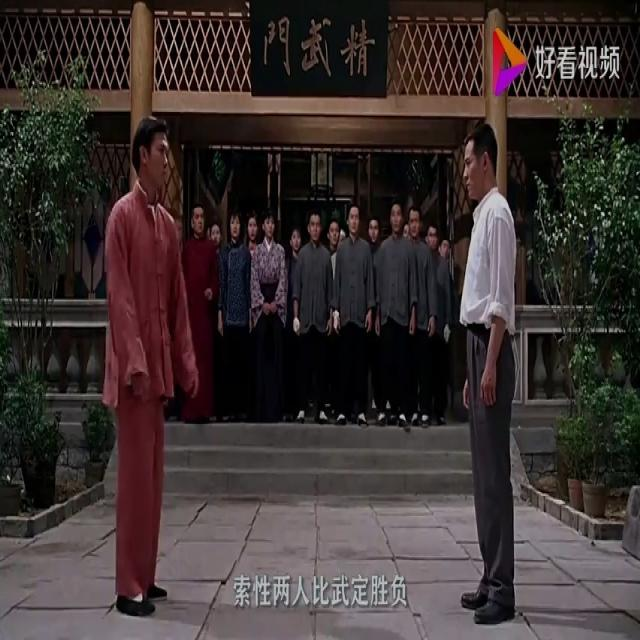non-fight: (93, 113, 201, 620), (449, 124, 527, 625), (330, 201, 378, 424), (372, 197, 418, 427), (293, 208, 334, 423), (180, 200, 218, 422), (217, 207, 254, 424), (252, 208, 286, 422), (408, 206, 438, 428), (421, 218, 452, 426), (281, 225, 303, 422)
